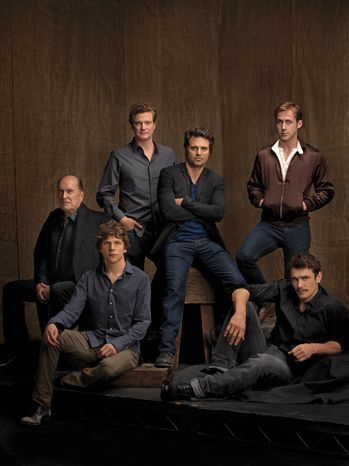bad: (281, 266, 317, 302), (45, 178, 81, 214)
